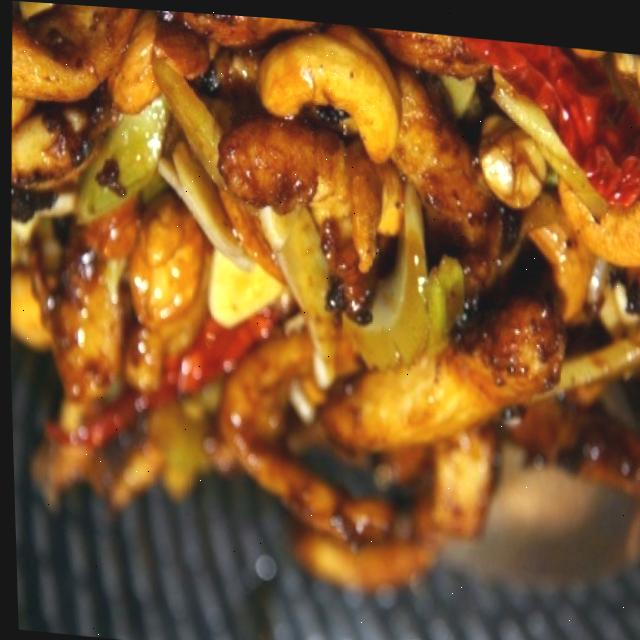鸡肉料理 含炸鸡: (0, 0, 640, 627)
